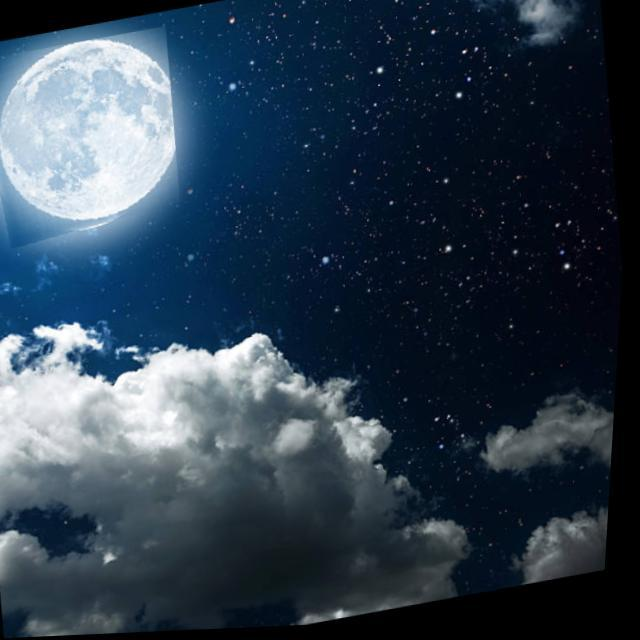moon: (0, 26, 192, 253)
